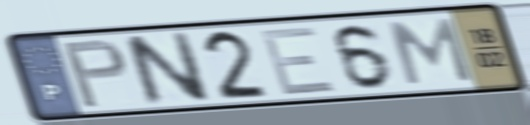2: (199, 27, 273, 104)
6: (331, 21, 396, 91)
E: (256, 23, 341, 98)
M: (384, 15, 476, 87)
N: (118, 28, 214, 109)
P: (59, 37, 130, 111)
